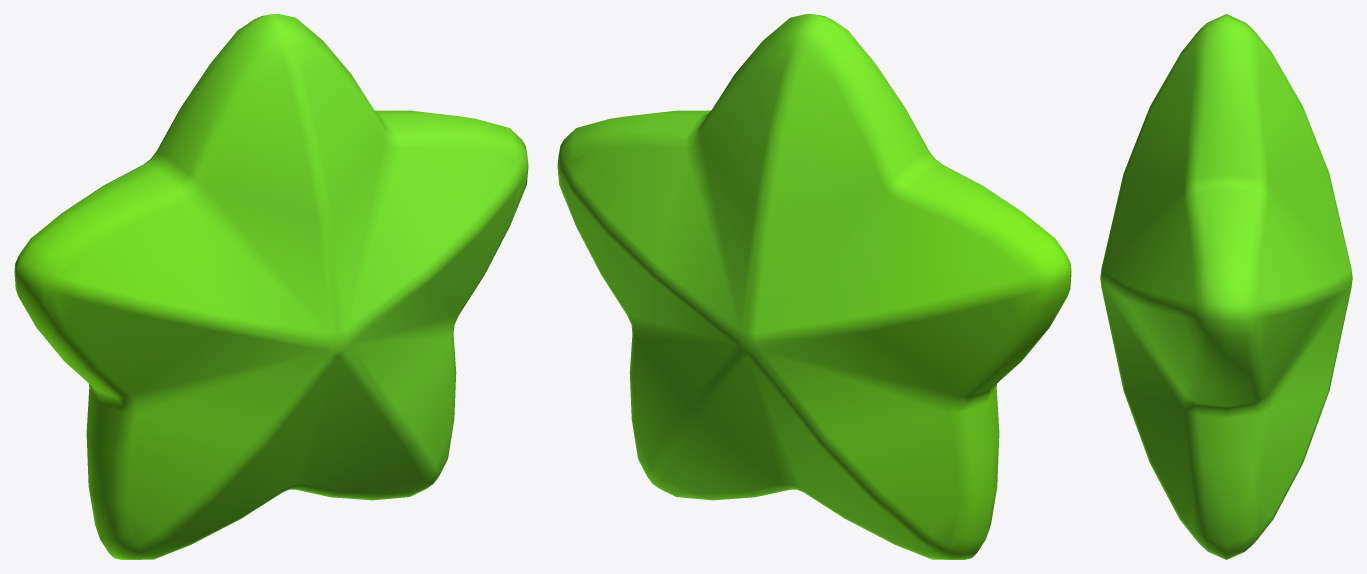
The picture shows the model from 3 angles, left to right: view 1: azimuth 30°, elevation 25°; view 2: azimuth 150°, elevation 25°; view 3: azimuth 270°, elevation 25°; orthographic projection. The views are drawn at different scales.
Parts seen in each view (by area): view 1: model_0.080; view 2: model_0.080; view 3: model_0.080.
Boxes of the visible parts, <box> form: model_0.080: <box>14,14,528,559</box>; model_0.080: <box>557,14,1071,559</box>; model_0.080: <box>1100,14,1352,559</box>.
Bounding box in the file's own units: 3.93 × 3.78 × 1.81.
